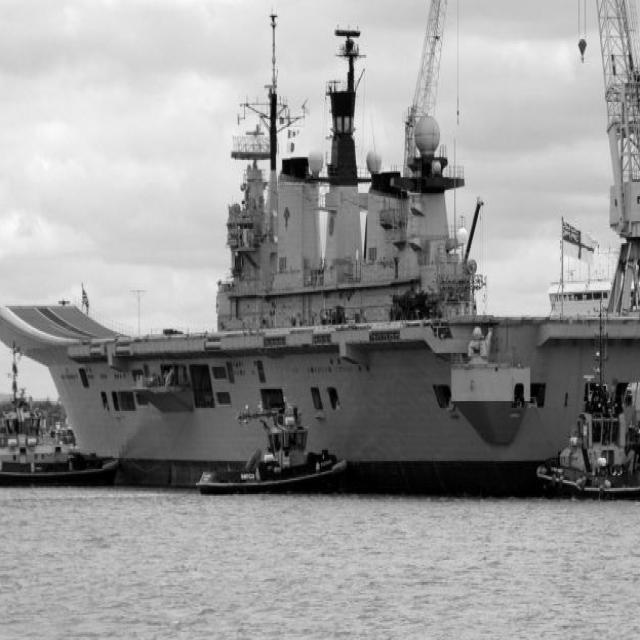Portanaves: (1, 1, 640, 486)
